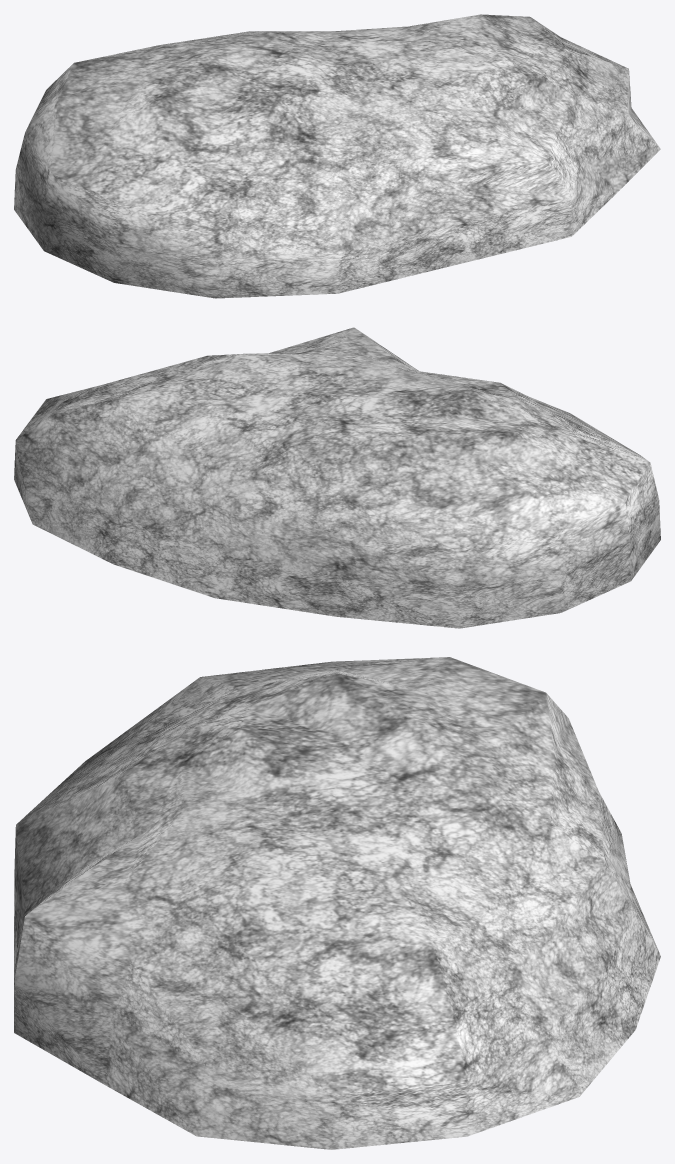
The model's file is Rubble.fbx.
3 renders of one model, top to bottom at view 1: azimuth 30°, elevation 25°; view 2: azimuth 150°, elevation 25°; view 3: azimuth 270°, elevation 25°, orthographic. The views are drawn at different scales.
Parts seen in each view (by area): view 1: Rubble; view 2: Rubble; view 3: Rubble.
Boxes of the visible parts, box(x1,y1,x2,y2) form: Rubble: box(14, 14, 660, 298); Rubble: box(14, 327, 660, 628); Rubble: box(14, 657, 660, 1149).
Size of the model in its own units: 4.63 by 3.26 by 0.9198.
1 material, 1 textured.
